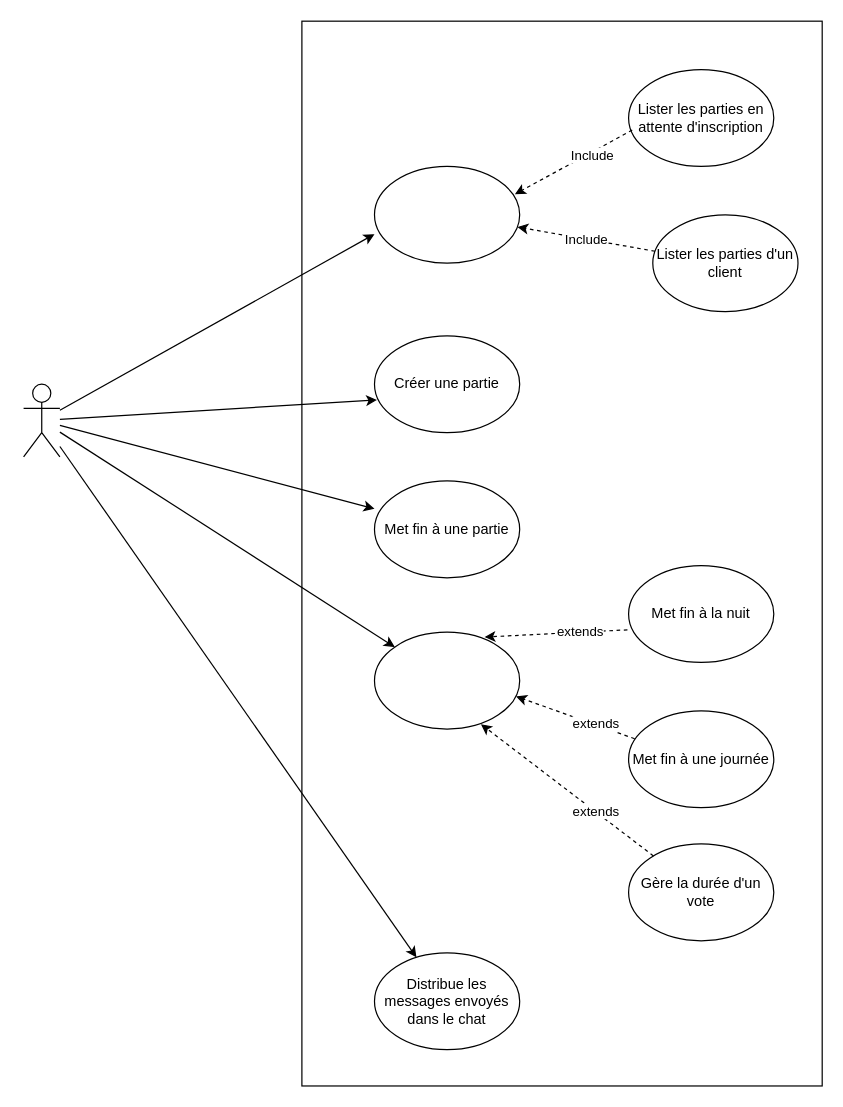
The diagram is 843 pixels wide and 1107 high, and some of its shapes have lost their labels. The shapes that lost their labels are listed below. From the top down, each one's centre as x and y in pixels, then its label:
the point at 446,214: Lister des parties
the point at 41,420: Server
the point at 446,680: Gère l'avancement d'un partie
